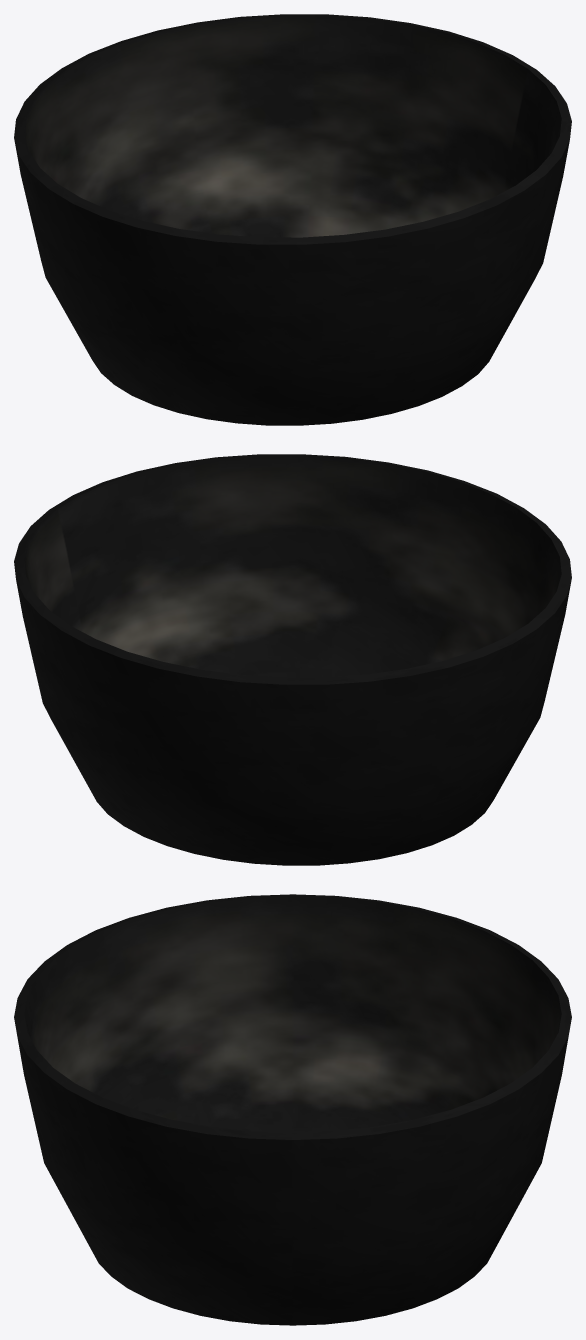
Rendered from MixingBowlRubber.obj.
The picture shows the model from 3 angles, top to bottom: view 1: azimuth 30°, elevation 25°; view 2: azimuth 150°, elevation 25°; view 3: azimuth 270°, elevation 25°; orthographic projection. The views are drawn at different scales.
Parts seen in each view (by area): view 1: Rubber; view 2: Rubber; view 3: Rubber.
Part boxes in pixels (bbox=[...]): Rubber: bbox=[14, 14, 571, 425]; Rubber: bbox=[14, 454, 571, 865]; Rubber: bbox=[14, 894, 571, 1325].
Size of the model in its own units: 0.164 by 0.071 by 0.1574.
1 material, 1 textured.
